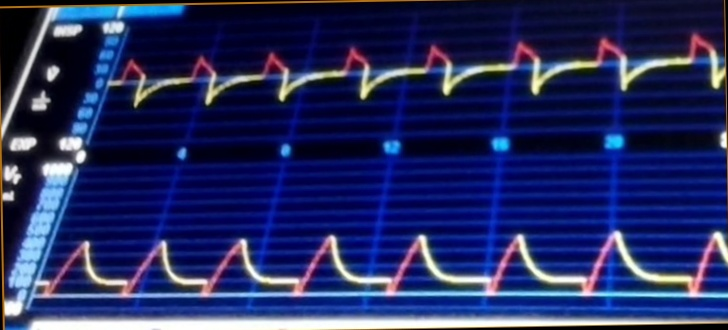Flow: (119, 33, 725, 128)
Leakage Volume: (38, 232, 728, 312)
